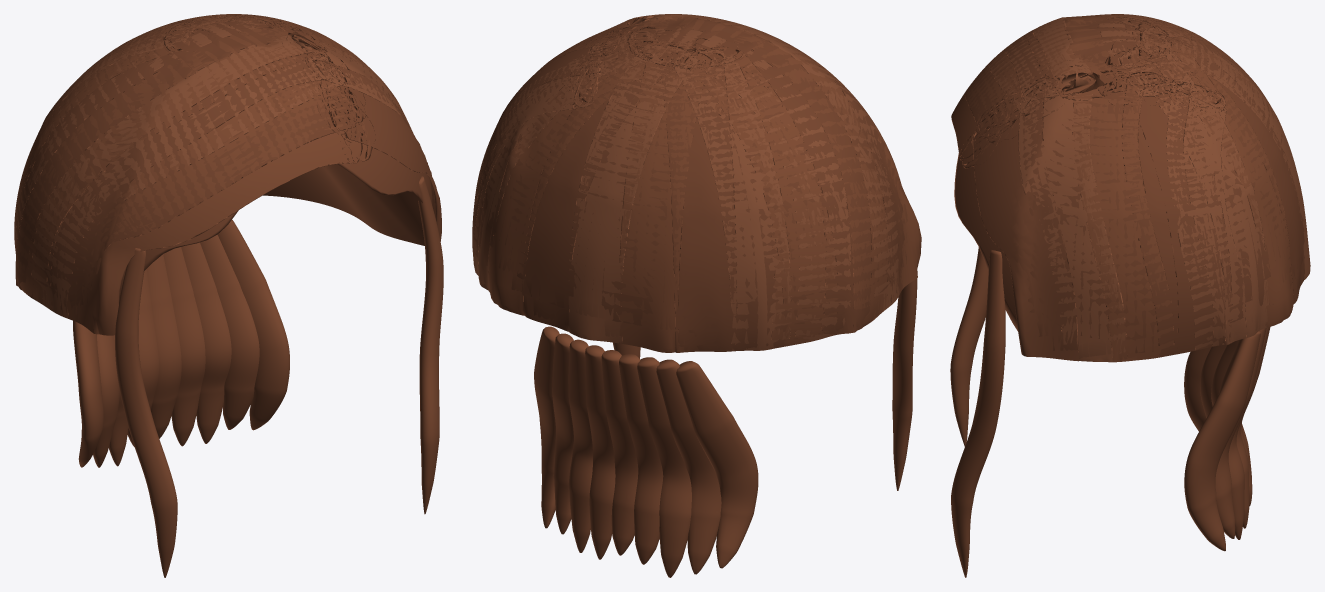
The model's file is Feminine-side-sweep-covered248-hair.glb.
3 views of the same model, side by side, from view 1: azimuth 30°, elevation 25°; view 2: azimuth 150°, elevation 25°; view 3: azimuth 270°, elevation 25° (orthographic). The views are drawn at different scales.
Parts seen in each view (by area): view 1: 226 hair / Hair / sculpted 0.002, 226 hair / Hair / sculpted 1.004, 226 hair / Hair / sculpted 2.002, 226 hair / Hair / sculpted 1.003; view 2: 226 hair / Hair / sculpted 0.002, 226 hair / Hair / sculpted 2.002, 226 hair / Hair / sculpted 1.004, 226 hair / Hair / sculpted 1.003; view 3: 226 hair / Hair / sculpted 0.002, 226 hair / Hair / sculpted 1.004, 226 hair / Hair / sculpted 2.002, 226 hair / Hair / sculpted 1.003.
Boxes of the visible parts, x1,y1,x2,y2 form: 226 hair / Hair / sculpted 0.002: (14, 14, 443, 577); 226 hair / Hair / sculpted 1.004: (14, 14, 441, 322); 226 hair / Hair / sculpted 2.002: (14, 14, 411, 318); 226 hair / Hair / sculpted 1.003: (14, 14, 432, 301); 226 hair / Hair / sculpted 0.002: (488, 14, 921, 577); 226 hair / Hair / sculpted 2.002: (472, 14, 899, 351); 226 hair / Hair / sculpted 1.004: (472, 14, 906, 352); 226 hair / Hair / sculpted 1.003: (473, 19, 904, 351); 226 hair / Hair / sculpted 0.002: (950, 14, 1294, 577); 226 hair / Hair / sculpted 1.004: (964, 14, 1304, 361); 226 hair / Hair / sculpted 2.002: (988, 14, 1310, 362); 226 hair / Hair / sculpted 1.003: (954, 14, 1304, 353).
Size of the model in its own units: 0.9584 by 1.15 by 0.7771.
